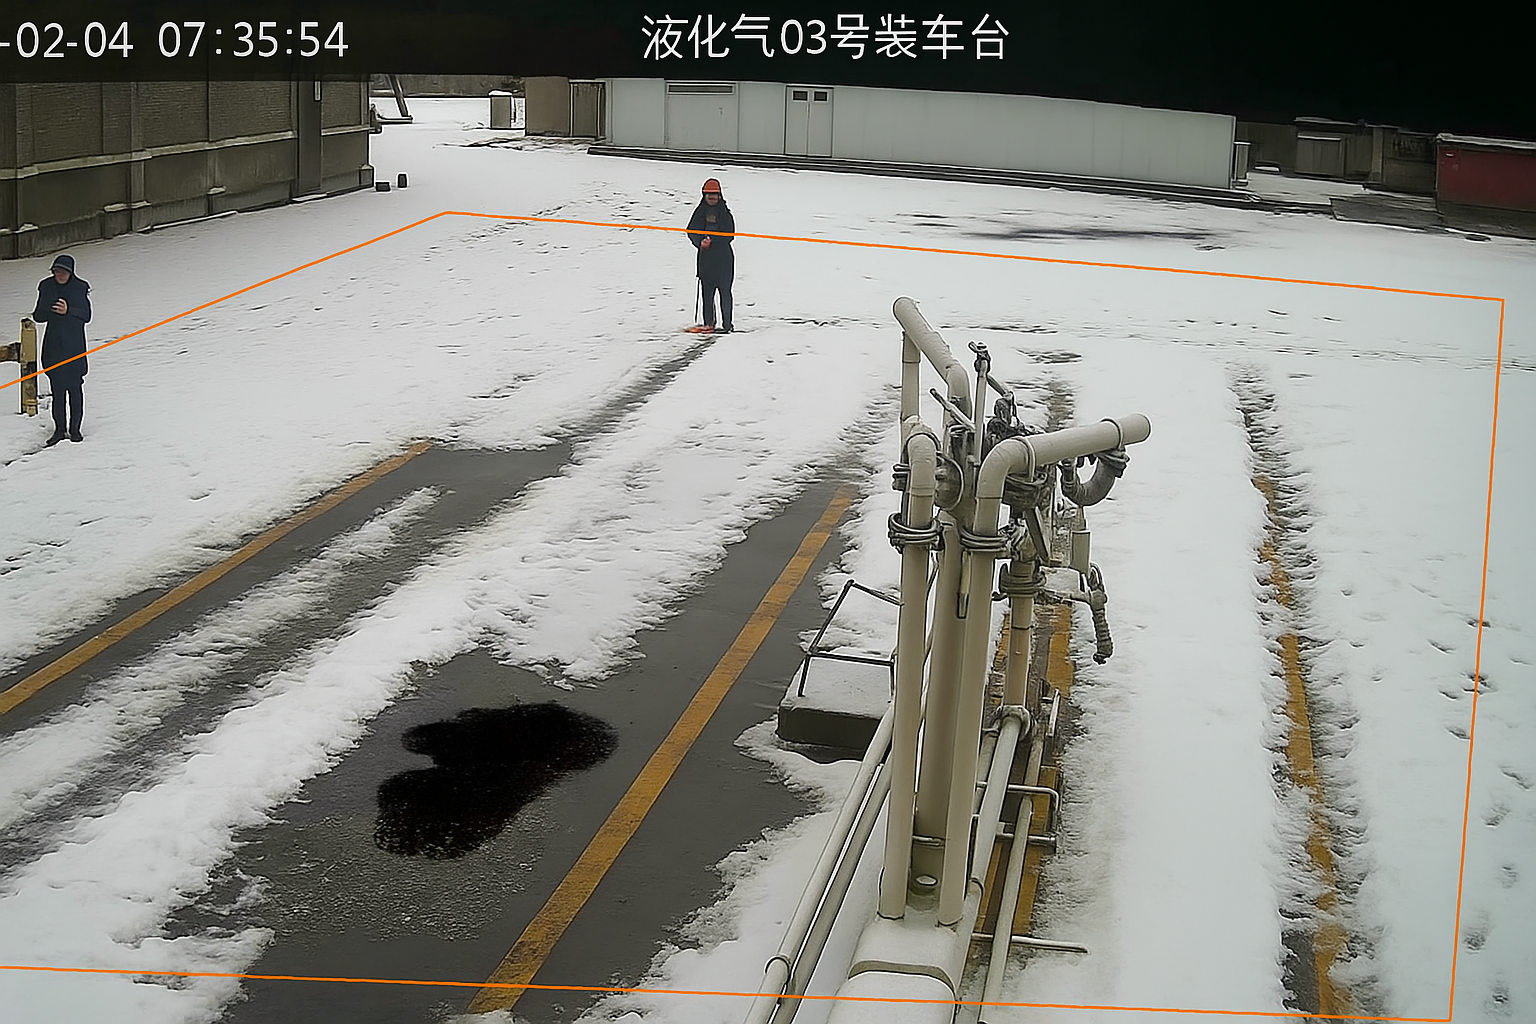oil_leakage: (357, 681, 633, 866)
